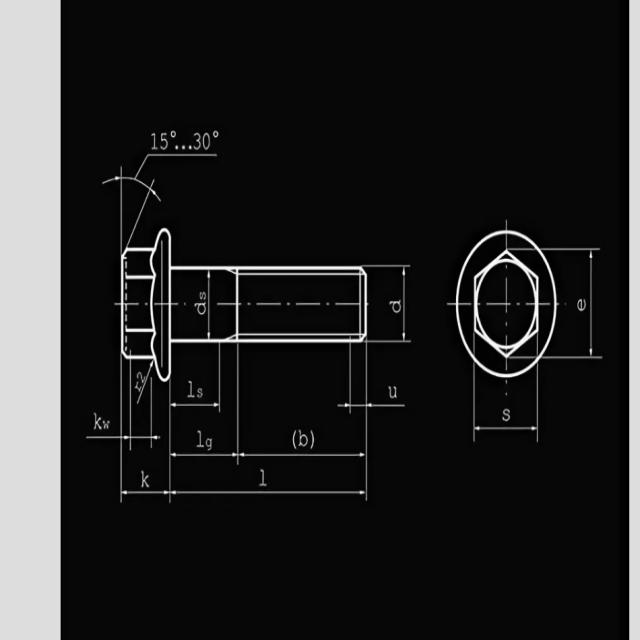marking_line: (169, 380, 368, 501), (169, 379, 370, 462), (121, 383, 171, 503), (87, 379, 160, 449), (557, 247, 602, 358), (338, 343, 403, 413), (472, 378, 538, 442), (103, 166, 153, 247), (368, 264, 411, 343), (169, 379, 221, 411), (135, 360, 154, 404), (207, 271, 211, 339)
numeric: (140, 468, 151, 489), (192, 132, 202, 152), (195, 427, 205, 447), (389, 298, 401, 314), (194, 302, 207, 316), (298, 429, 308, 447), (202, 132, 211, 151), (387, 383, 397, 400), (159, 133, 168, 150), (187, 380, 195, 399), (150, 131, 157, 151), (259, 467, 266, 487), (93, 413, 101, 429), (205, 435, 213, 451), (137, 372, 146, 384), (133, 381, 142, 392), (102, 420, 110, 430), (197, 386, 203, 399), (200, 291, 207, 301)
special_symbol: (577, 298, 587, 315), (501, 407, 511, 421), (292, 429, 297, 449), (310, 430, 315, 448), (171, 129, 176, 139), (212, 130, 219, 137), (173, 144, 179, 151), (180, 144, 186, 151), (188, 143, 192, 151), (505, 390, 509, 396), (504, 378, 507, 384)
